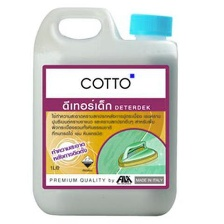cleaning_solution: (28, 3, 179, 218)
